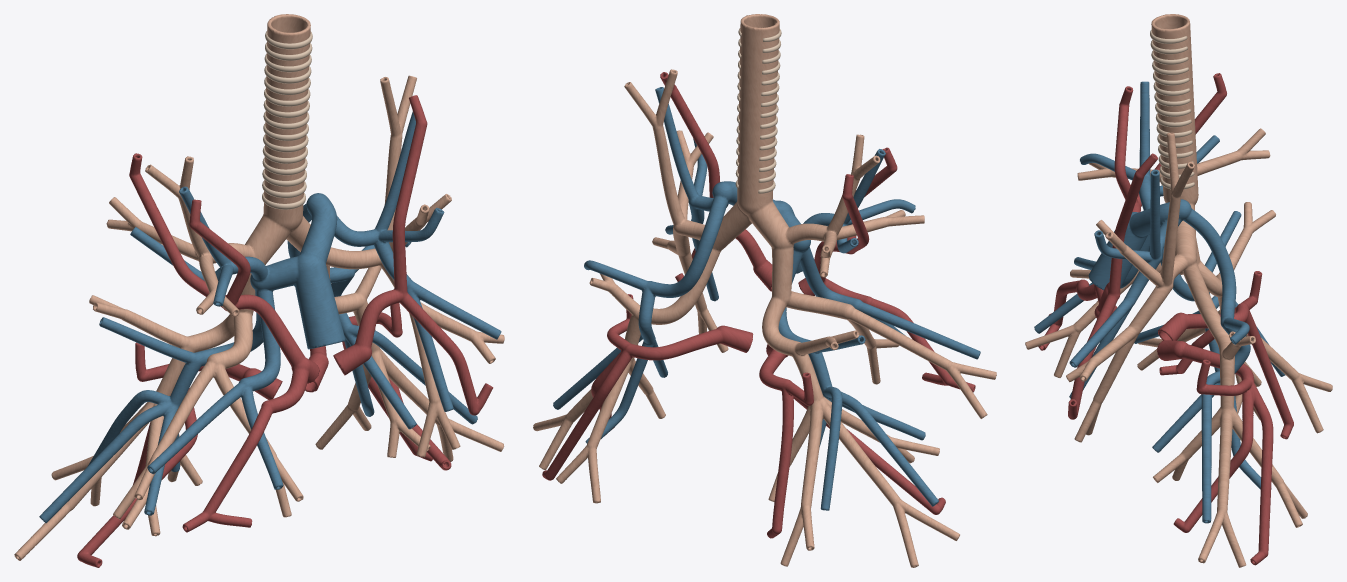
File: interior.glb
3 views of the same model, side by side, from view 1: azimuth 30°, elevation 25°; view 2: azimuth 150°, elevation 25°; view 3: azimuth 270°, elevation 25° (orthographic). The views are drawn at different scales.
Parts seen in each view (by area): view 1: Airway_Tree, Pulmonary_Arteries, Pulmonary_Vein_R_Superior, Pulmonary_Vein_L_Superior, Tracheal_Cartilage, Pulmonary_Vein_R_Inferior, Pulmonary_Vein_L_Inferior; view 2: Airway_Tree, Pulmonary_Arteries, Pulmonary_Vein_L_Inferior, Pulmonary_Vein_R_Inferior, Pulmonary_Vein_R_Superior, Pulmonary_Vein_L_Superior, Tracheal_Cartilage; view 3: Airway_Tree, Pulmonary_Arteries, Pulmonary_Vein_L_Inferior, Pulmonary_Vein_R_Inferior, Pulmonary_Vein_R_Superior, Tracheal_Cartilage, Pulmonary_Vein_L_Superior.
Boxes of the visible parts, bbox=[...] form: Airway_Tree: bbox=[14, 14, 504, 560]; Pulmonary_Arteries: bbox=[39, 111, 501, 523]; Pulmonary_Vein_R_Superior: bbox=[129, 153, 319, 532]; Pulmonary_Vein_L_Superior: bbox=[333, 95, 493, 415]; Tracheal_Cartilage: bbox=[262, 31, 312, 209]; Pulmonary_Vein_R_Inferior: bbox=[77, 342, 282, 567]; Pulmonary_Vein_L_Inferior: bbox=[305, 303, 451, 470]; Airway_Tree: bbox=[533, 14, 996, 567]; Pulmonary_Arteries: bbox=[553, 87, 980, 510]; Pulmonary_Vein_L_Inferior: bbox=[542, 294, 753, 480]; Pulmonary_Vein_R_Inferior: bbox=[759, 344, 945, 538]; Pulmonary_Vein_R_Superior: bbox=[798, 147, 975, 392]; Pulmonary_Vein_L_Superior: bbox=[660, 72, 772, 291]; Tracheal_Cartilage: bbox=[735, 28, 781, 193]; Airway_Tree: bbox=[1025, 14, 1332, 567]; Pulmonary_Arteries: bbox=[1034, 81, 1285, 523]; Pulmonary_Vein_L_Inferior: bbox=[1157, 340, 1273, 565]; Pulmonary_Vein_R_Inferior: bbox=[1158, 271, 1293, 439]; Pulmonary_Vein_R_Superior: bbox=[1038, 73, 1226, 350]; Tracheal_Cartilage: bbox=[1150, 29, 1194, 189]; Pulmonary_Vein_L_Superior: bbox=[1068, 153, 1158, 419].
Size of the model in its own units: 0.2393 by 0.2473 by 0.1493.
Materials: 4 (4 with a texture image).
